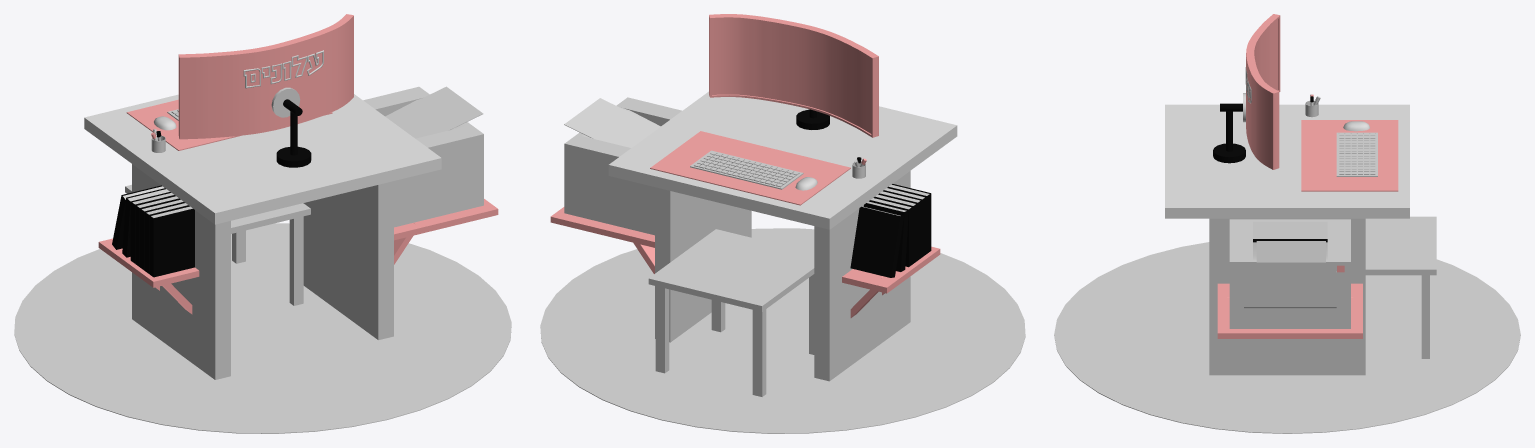
Rendered from table2.gltf.
3 views of the same model, side by side, from view 1: azimuth 30°, elevation 25°; view 2: azimuth 150°, elevation 25°; view 3: azimuth 270°, elevation 25° (orthographic). The views are drawn at different scales.
Parts seen in each view (by area): view 1: ספר.6-Mat.1 (×2), ספר.6, ספר.6-Mat, ספר.6-Mat.2; view 2: ספר.6-Mat.1 (×2), ספר.6-Mat, ספר.6, ספר.6-Mat.2; view 3: ספר.6-Mat.1, ספר.6, ספר.6-Mat, ספר.6-Mat.2.
Boxes of the visible parts, box(x1,y1,x2,y2) form: ספר.6-Mat.1 (×2): box(14, 50, 511, 433); ספר.6: box(84, 94, 441, 224); ספר.6-Mat: box(98, 14, 498, 314); ספר.6-Mat.2: box(112, 99, 311, 277); ספר.6-Mat.1 (×2): box(540, 97, 1025, 433); ספר.6-Mat: box(550, 14, 940, 317); ספר.6: box(608, 91, 957, 229); ספר.6-Mat.2: box(796, 109, 931, 277); ספר.6-Mat.1: box(1054, 67, 1520, 433); ספר.6: box(1165, 104, 1409, 218); ספר.6-Mat: box(1217, 14, 1398, 338); ספר.6-Mat.2: box(1213, 96, 1313, 163).
Bounding box in the file's own units: 476 × 315 × 476.
